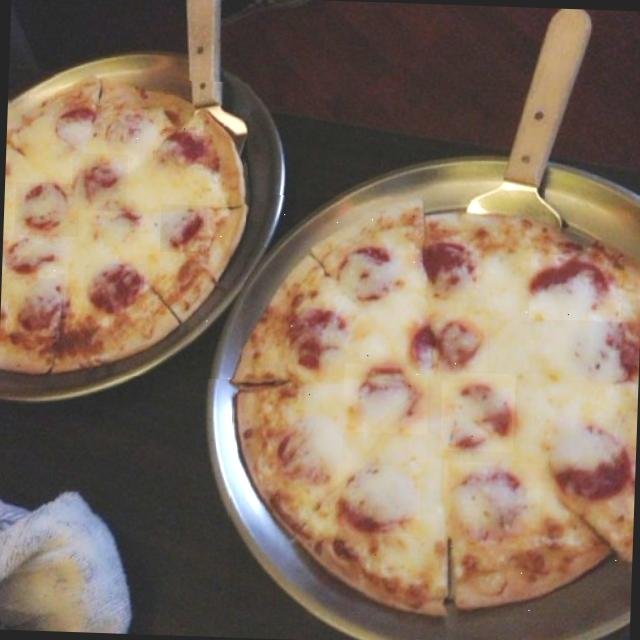pepperoni: (542, 414, 636, 512), (441, 460, 541, 550), (528, 254, 622, 322), (400, 311, 488, 383), (334, 464, 420, 536), (440, 371, 516, 452), (342, 364, 428, 434), (286, 306, 362, 384), (324, 236, 396, 308), (6, 272, 64, 339), (416, 240, 480, 298), (13, 182, 78, 236), (70, 152, 126, 211), (81, 262, 142, 316), (592, 322, 640, 384), (1, 230, 57, 278), (159, 203, 206, 253), (51, 102, 98, 148), (156, 128, 200, 171)
pizza: (234, 199, 640, 614), (0, 77, 245, 373)
